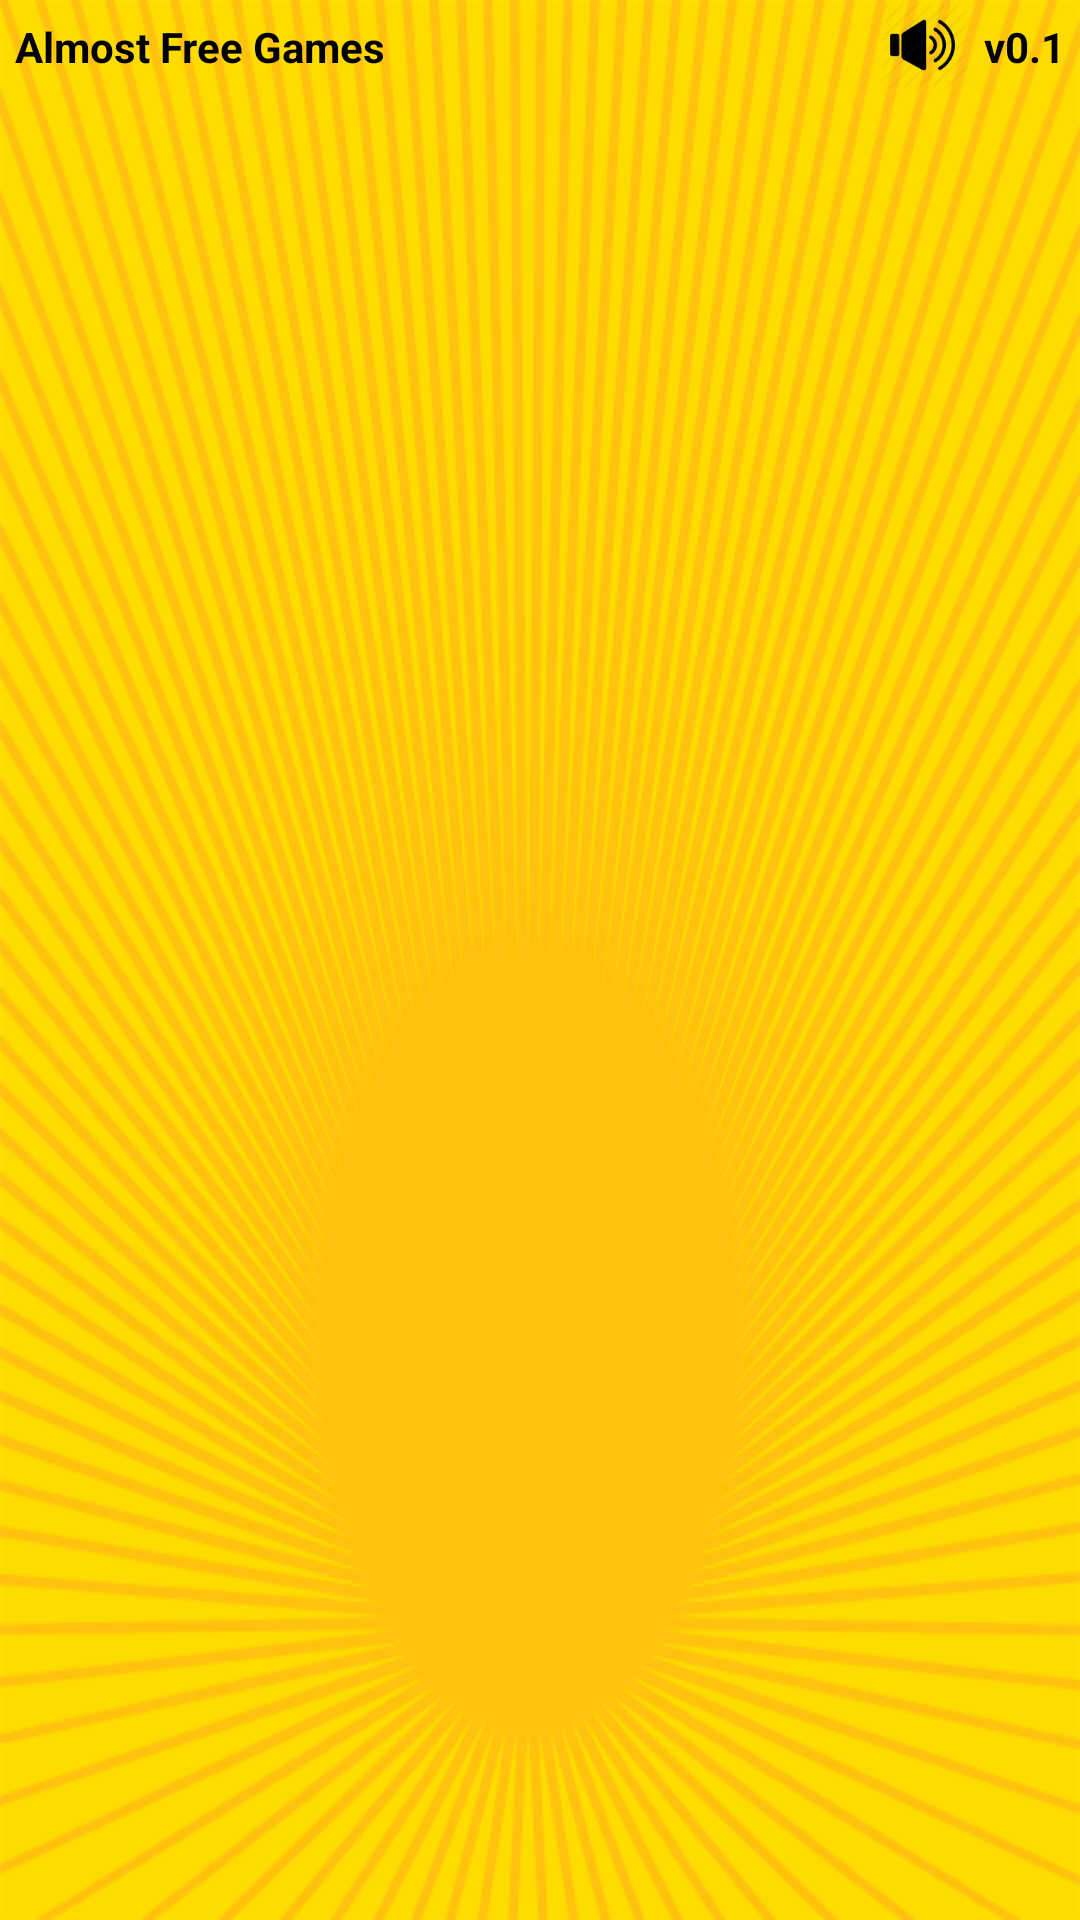

Named icons in this screenshot (1080px x 1920px) and their centers, [x,y]:
unmute: [924,45]
